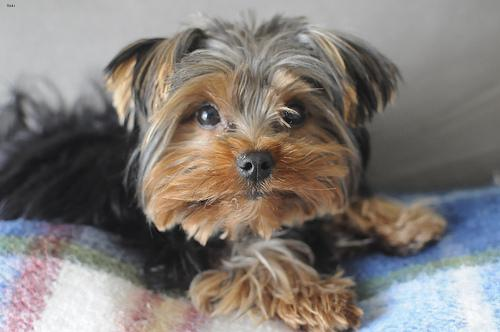dog-yorkshire_terrier: (109, 22, 388, 220)
